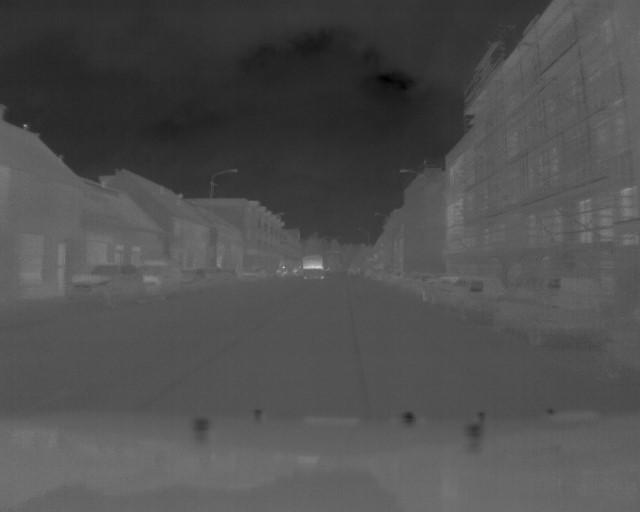car: (492, 282, 606, 351), (65, 262, 146, 310), (450, 274, 491, 321), (140, 260, 183, 302), (185, 267, 210, 293), (243, 265, 267, 282)
